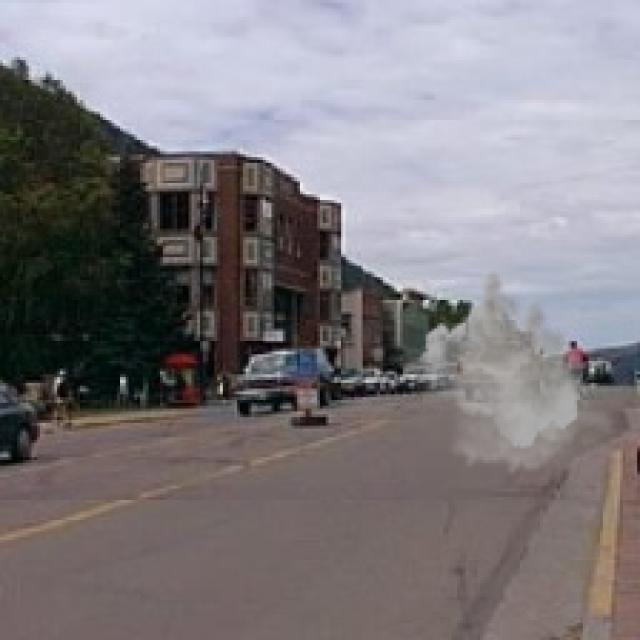smoke: (414, 263, 614, 477)
